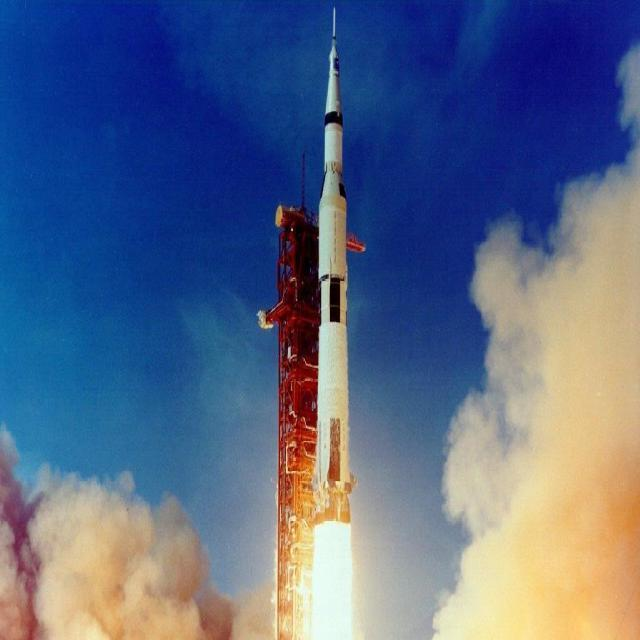missile: (307, 4, 368, 525)
